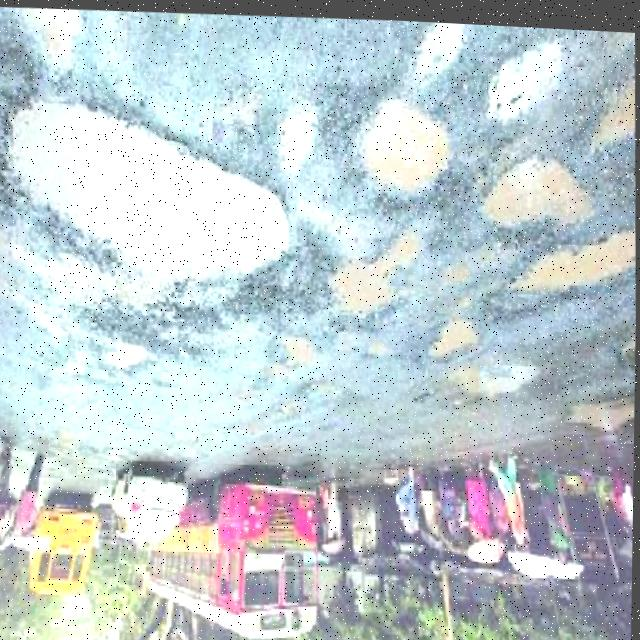Pothole: (0, 92, 295, 299), (485, 213, 637, 324), (319, 220, 426, 330), (349, 97, 452, 205), (475, 144, 593, 237), (476, 22, 566, 130), (0, 4, 86, 86), (582, 51, 637, 150), (446, 350, 541, 406), (405, 17, 468, 91), (271, 96, 320, 178), (421, 306, 484, 365), (261, 330, 313, 383), (98, 341, 155, 373)
